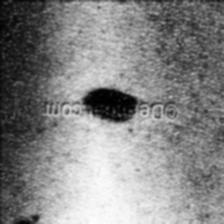Potentially Malignant Skin Tumors: (84, 89, 135, 120)
